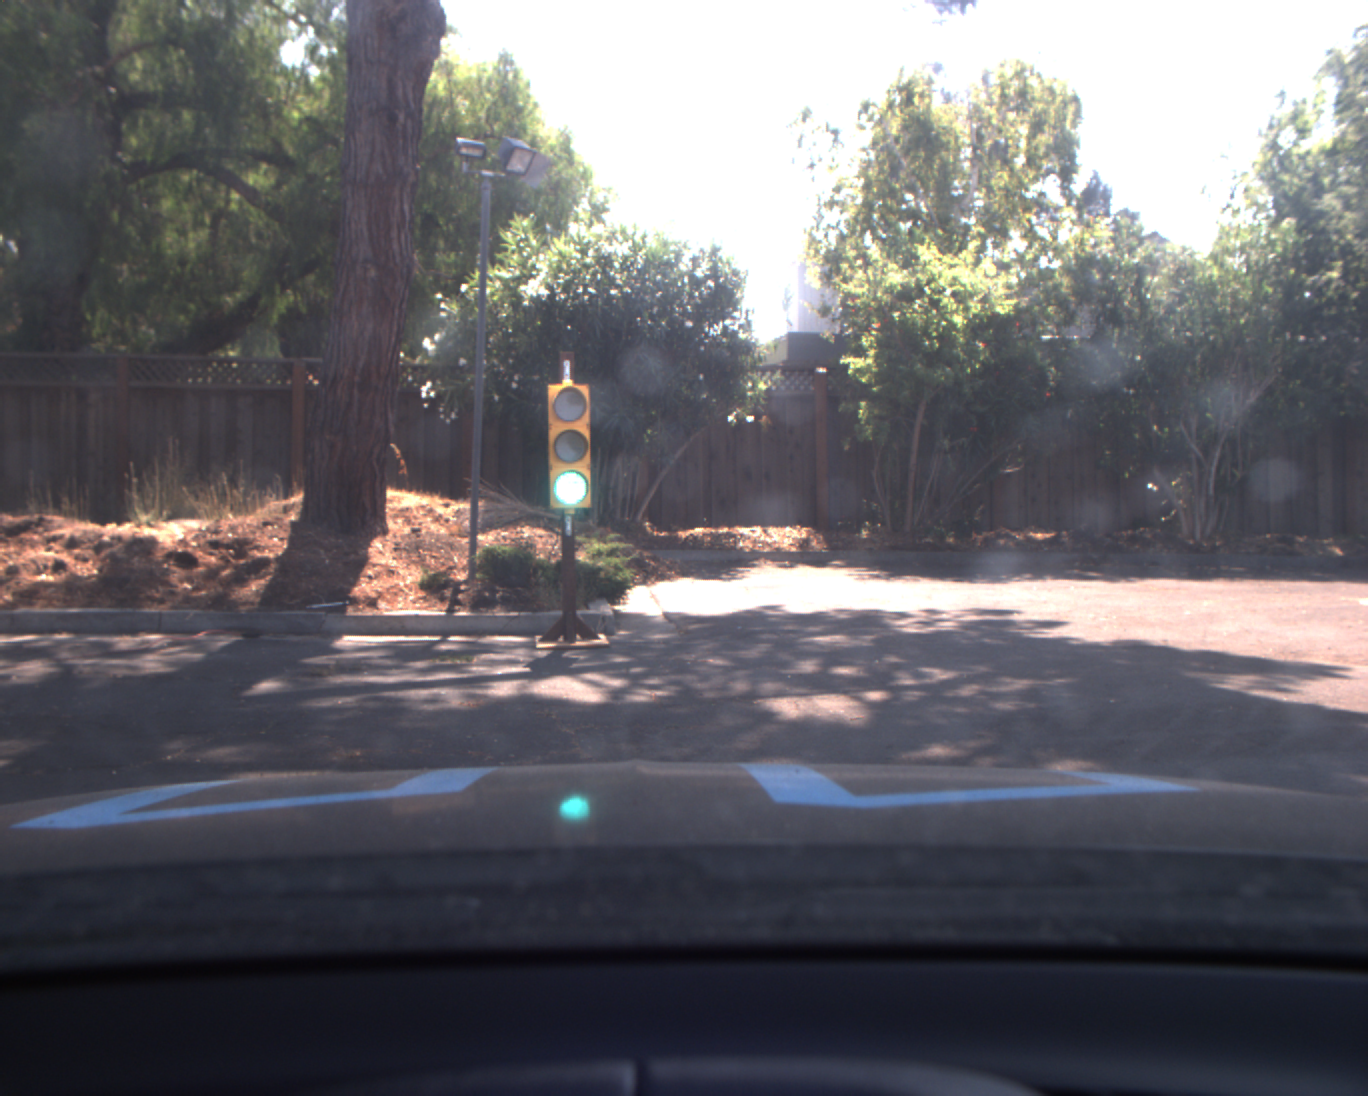green: (543, 378, 595, 513)
